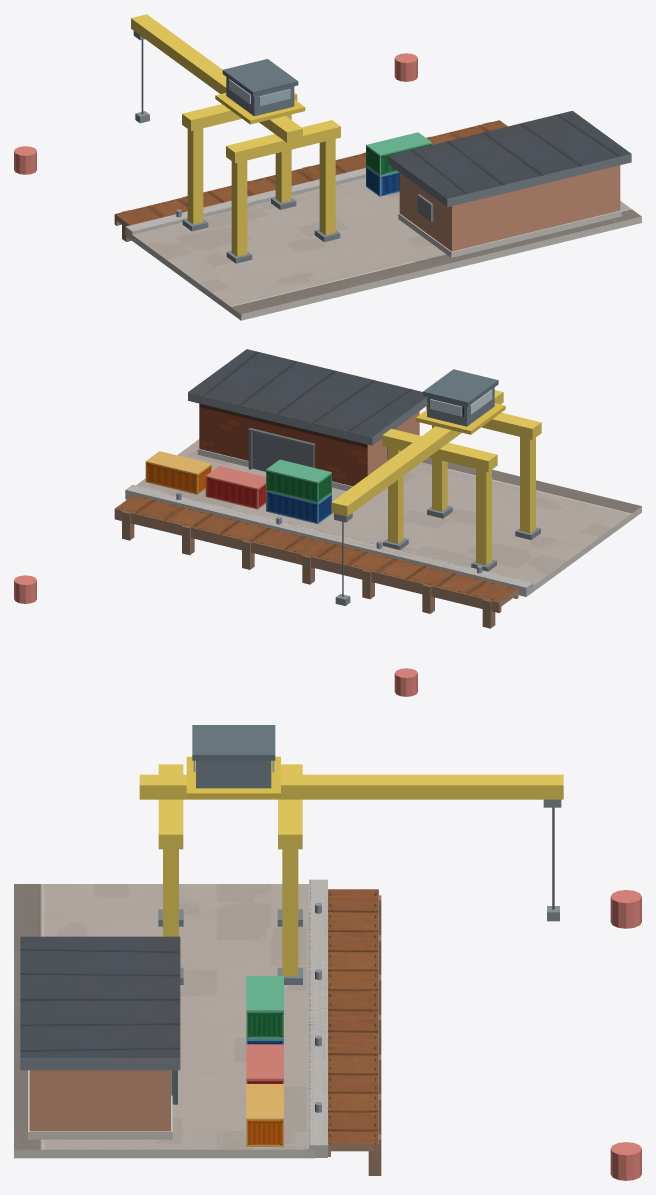
The model's file is port.glb.
3 views of the same model, one above another, from view 1: azimuth 30°, elevation 25°; view 2: azimuth 150°, elevation 25°; view 3: azimuth 270°, elevation 25° (orthographic). The views are drawn at different scales.
Parts seen in each view (by area): view 1: Nabrezi__Textured, Skladiste__Roof_UV, Skladiste__Warehouse_Walls, Jerab__Crane_Columns, Nabrezi__Quay_Concrete_Stone, Molo__Textured, Jerab__Crane_Long_Jib, Jerab__Crane_Gantry_Beams, Skladiste__Warehouse_Roof, Nabrezi__Quay_Waterfront_Stone, Jerab__Crane_Cabin_Roof, Skladiste__Warehouse_Skirting (+5 smaller); view 2: Nabrezi__Textured, Skladiste__Roof_UV, Molo__Textured, Skladiste__Warehouse_Facade_UV, Jerab__Crane_Columns, Nabrezi__Quay_Waterfront_Stone, Molo__Pier_Front_Fascia, Jerab__Crane_Long_Jib, Jerab__Crane_Gantry_Beams, Molo__Pier_Piles, Skladiste__Warehouse_Roof, Jerab__Crane_Cabin_Roof (+14 smaller); view 3: Nabrezi__Textured, Skladiste__Roof_UV, Molo__Textured, Skladiste__Warehouse_Walls, Jerab__Crane_Long_Jib, Nabrezi__Quay_Waterfront_Stone, Jerab__Crane_Columns, Jerab__Crane_Gantry_Beams, Jerab__Crane_Cabin_Roof, Nabrezi__Quay_Concrete_Stone, Boje__Buoy_Base, Jerab__Crane_Operator_Cabin (+11 smaller).
Boxes of the visible parts, box(x1,y1,x2,y2) form: Nabrezi__Textured: box(128, 168, 641, 314); Skladiste__Roof_UV: box(388, 111, 631, 198); Skladiste__Warehouse_Walls: box(399, 165, 620, 251); Jerab__Crane_Columns: box(187, 114, 335, 256); Nabrezi__Quay_Concrete_Stone: box(130, 216, 641, 320); Molo__Textured: box(115, 120, 507, 225); Jerab__Crane_Long_Jib: box(131, 14, 302, 142); Jerab__Crane_Gantry_Beams: box(182, 92, 340, 163); Skladiste__Warehouse_Roof: box(388, 154, 631, 207); Nabrezi__Quay_Waterfront_Stone: box(125, 168, 365, 238); Jerab__Crane_Cabin_Roof: box(222, 59, 298, 96); Skladiste__Warehouse_Skirting: box(398, 210, 621, 257); Nabrezi__Textured: box(127, 439, 641, 586); Skladiste__Roof_UV: box(188, 349, 426, 436); Molo__Textured: box(115, 495, 517, 602); Skladiste__Warehouse_Facade_UV: box(199, 403, 367, 486); Jerab__Crane_Columns: box(388, 425, 535, 565); Nabrezi__Quay_Waterfront_Stone: box(125, 485, 533, 596); Molo__Pier_Front_Fascia: box(114, 508, 501, 612); Jerab__Crane_Long_Jib: box(331, 390, 503, 516); Jerab__Crane_Gantry_Beams: box(382, 403, 541, 471); Molo__Pier_Piles: box(122, 511, 495, 628); Skladiste__Warehouse_Roof: box(188, 392, 426, 445); Jerab__Crane_Cabin_Roof: box(423, 369, 498, 406); Nabrezi__Textured: box(14, 879, 327, 1149); Skladiste__Roof_UV: box(20, 936, 180, 1058); Molo__Textured: box(328, 889, 378, 1144); Skladiste__Warehouse_Walls: box(29, 1070, 170, 1131); Jerab__Crane_Long_Jib: box(139, 774, 563, 799); Nabrezi__Quay_Waterfront_Stone: box(309, 879, 327, 1157); Jerab__Crane_Columns: box(163, 849, 298, 976); Jerab__Crane_Gantry_Beams: box(158, 764, 302, 849); Jerab__Crane_Cabin_Roof: box(192, 725, 275, 760); Nabrezi__Quay_Concrete_Stone: box(14, 1149, 315, 1158); Boje__Buoy_Base: box(610, 890, 641, 1180); Jerab__Crane_Operator_Cabin: box(196, 760, 271, 788).
Size of the model in its own units: 2 by 0.87 by 2.
34 materials, 1 textured.
